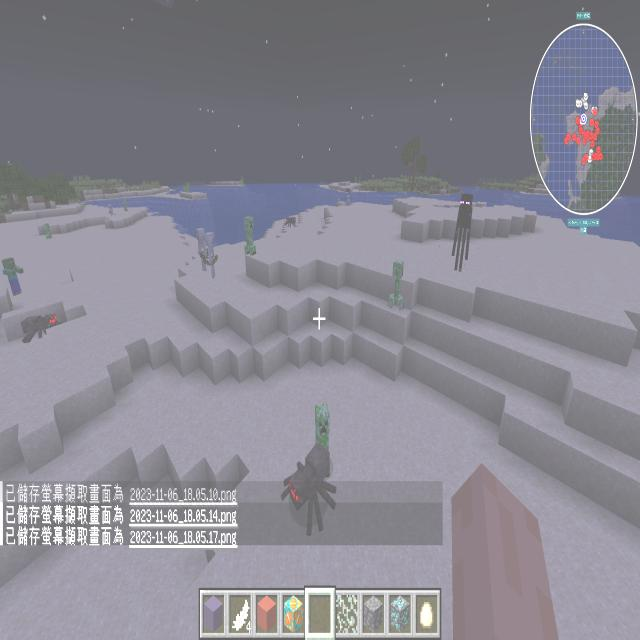Creeper: (386, 254, 408, 318), (312, 397, 334, 457), (242, 214, 259, 258), (43, 221, 53, 241)
Enderman: (450, 190, 474, 278)
Skeleton: (200, 230, 220, 285), (195, 224, 211, 274), (345, 194, 352, 208)
Spider: (278, 436, 342, 538), (18, 310, 66, 346), (284, 214, 298, 230), (122, 198, 130, 215), (108, 202, 114, 218)
Zombie: (0, 251, 25, 301)
